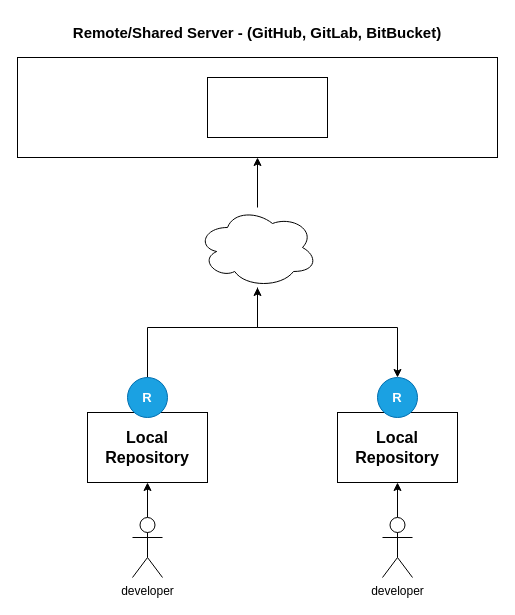
Image size: 515x615. Some labels were removed from this diagram. Here are the shapes that lost their labels. From the top down, the centre of each, then its label:
(267,107): Remote Repository
(257,247): internet
